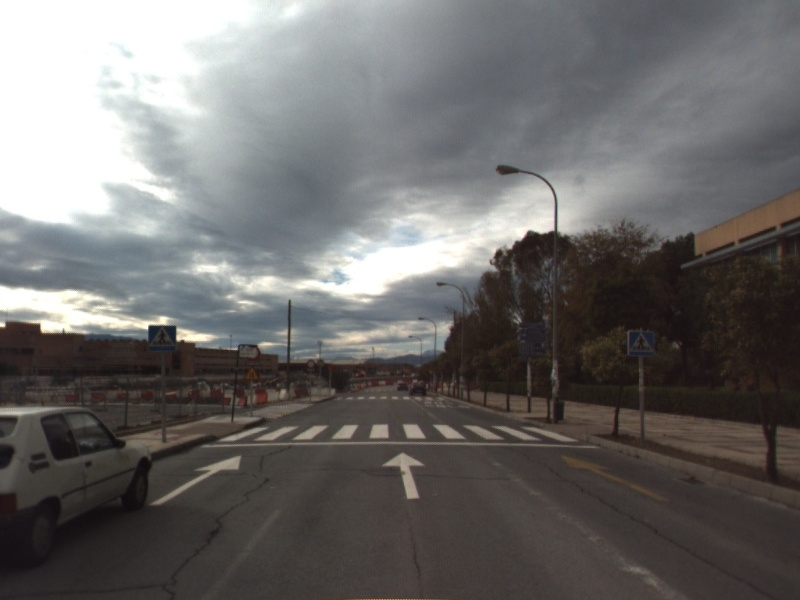STRAIGHT: (559, 453, 672, 504), (147, 453, 243, 507), (379, 450, 428, 501)
